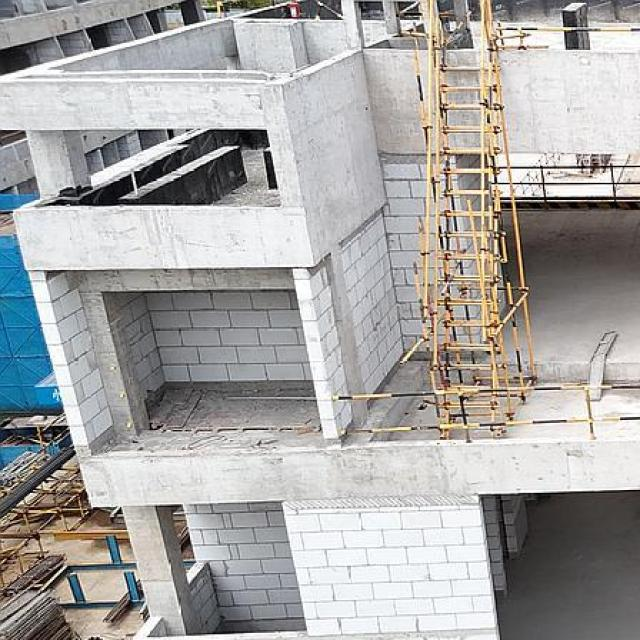edge_guardrail: (331, 382, 640, 442), (491, 163, 640, 203), (494, 26, 640, 31), (216, 0, 223, 20)
